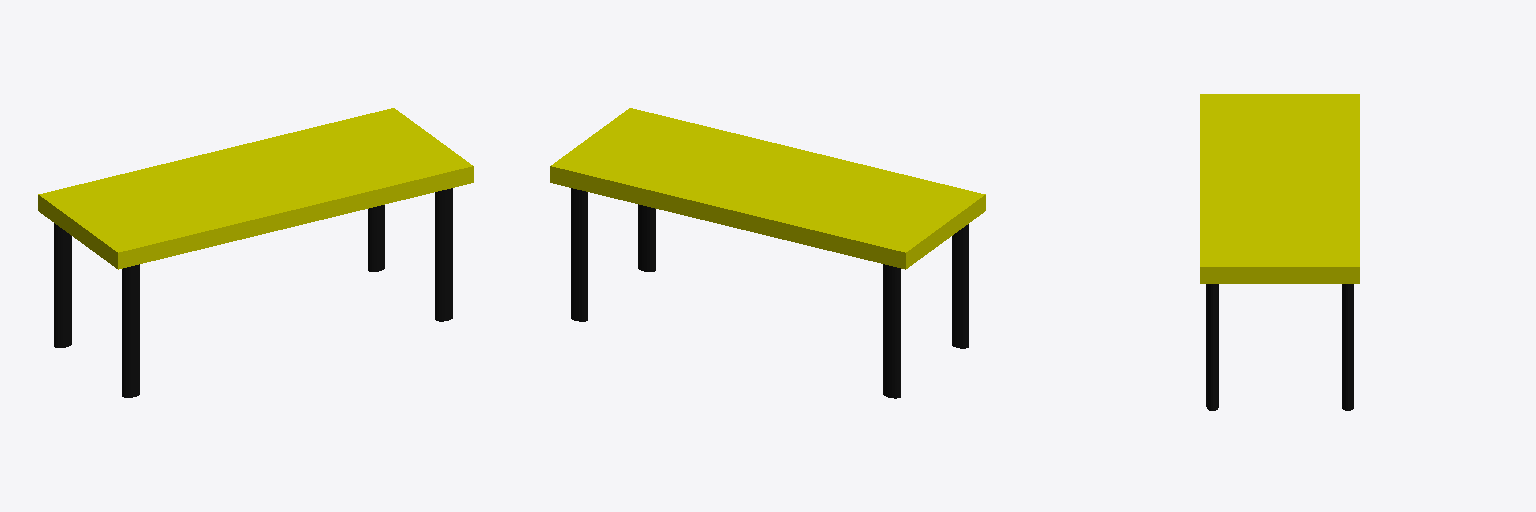
File: table.obj
3 views of the same model, side by side, from view 1: azimuth 30°, elevation 25°; view 2: azimuth 150°, elevation 25°; view 3: azimuth 270°, elevation 25° (orthographic).
Visible parts, largest first — view 1: polySurface40; view 2: polySurface40; view 3: polySurface40.
Part boxes in pixels (x1,y1,x2,y2): polySurface40: (38,108,473,397); polySurface40: (550,108,985,398); polySurface40: (1200,94,1359,410).
Bounding box in the file's own units: 9.46 × 3.85 × 3.67.